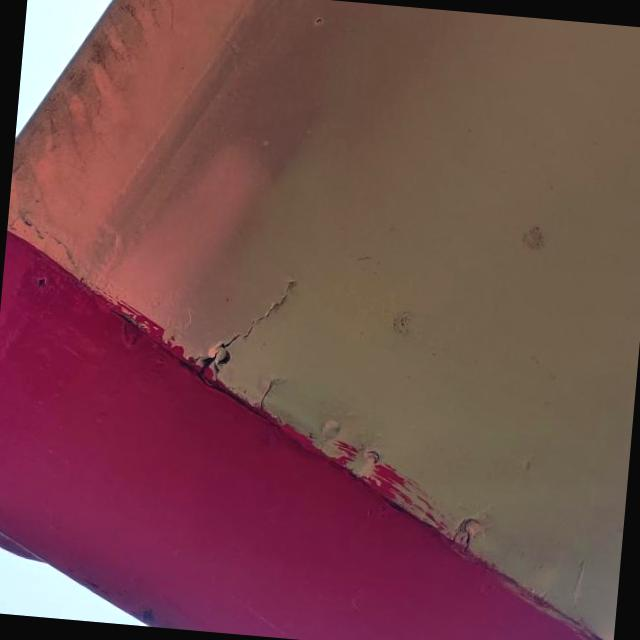crack: (185, 260, 308, 397), (244, 370, 286, 421), (448, 518, 480, 562)
